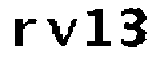1: (82, 6, 114, 49)
3: (119, 5, 150, 52)
r: (12, 14, 39, 51)
v: (46, 15, 77, 48)
